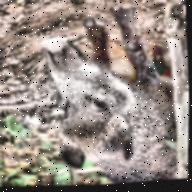boar: (30, 0, 192, 189)
